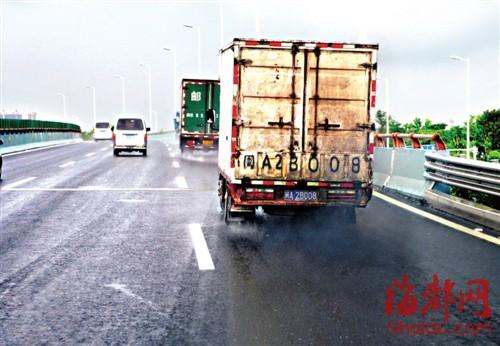smoke: (245, 209, 428, 267)
